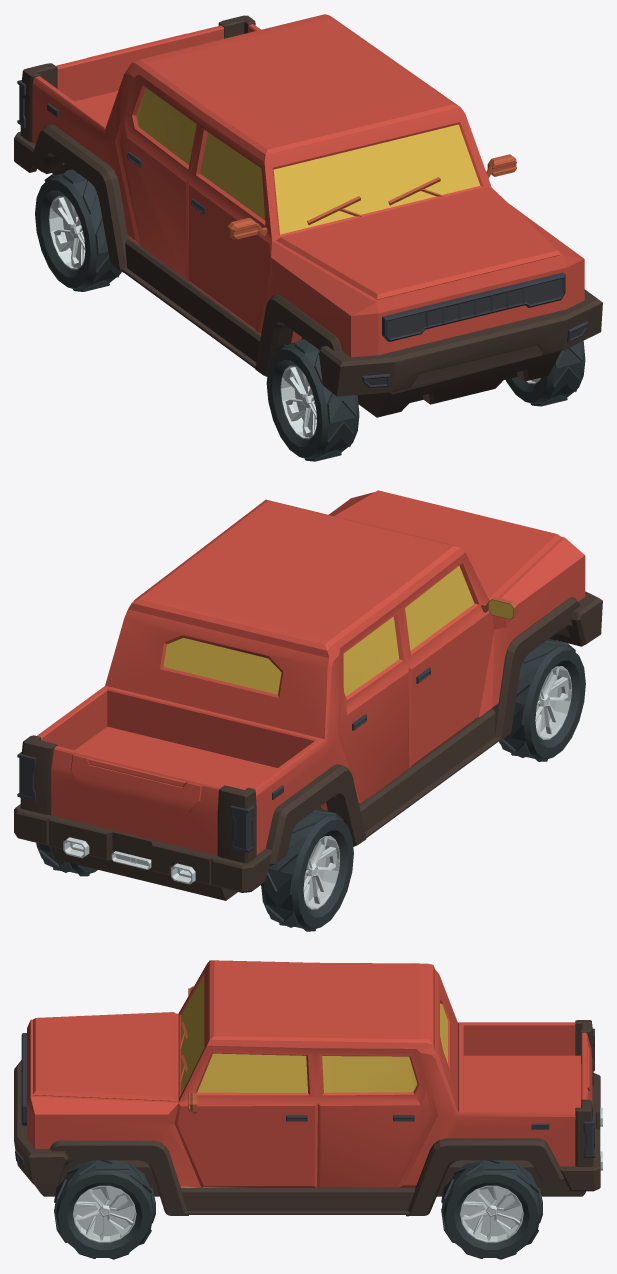
The model's file is car_04.gltf.
The picture shows the model from 3 angles, top to bottom: view 1: azimuth 30°, elevation 25°; view 2: azimuth 150°, elevation 25°; view 3: azimuth 270°, elevation 25°; orthographic projection. The views are drawn at different scales.
Visible parts, largest first — view 1: body, wheel_39, wheel_1, wheel_38, wheel_0, wheel_37, wheel_43; view 2: body, wheel_39, wheel_1, wheel_0, wheel_38, wheel_43, wheel_37; view 3: body, wheel_11, wheel_5, wheel_32, wheel_27, wheel_7, wheel_13, wheel_6, wheel_12.
Boxes of the visible parts, bbox=[...] form: body: bbox=[14, 14, 602, 461]; wheel_39: bbox=[35, 180, 90, 287]; wheel_1: bbox=[266, 349, 322, 457]; wheel_38: bbox=[40, 190, 84, 277]; wheel_0: bbox=[272, 360, 315, 447]; wheel_37: bbox=[43, 176, 97, 289]; wheel_43: bbox=[275, 345, 328, 459]; body: bbox=[14, 490, 602, 931]; wheel_39: bbox=[298, 820, 353, 927]; wheel_1: bbox=[530, 650, 585, 758]; wheel_0: bbox=[536, 660, 580, 747]; wheel_38: bbox=[304, 830, 348, 917]; wheel_43: bbox=[523, 646, 578, 759]; wheel_37: bbox=[291, 816, 346, 929]; body: bbox=[14, 960, 602, 1259]; wheel_11: bbox=[58, 1174, 151, 1257]; wheel_5: bbox=[445, 1174, 538, 1257]; wheel_32: bbox=[77, 1186, 134, 1236]; wheel_27: bbox=[464, 1186, 522, 1236]; wheel_7: bbox=[454, 1182, 529, 1249]; wheel_13: bbox=[67, 1182, 142, 1249]; wheel_6: bbox=[443, 1170, 540, 1257]; wheel_12: bbox=[55, 1170, 153, 1257].
Bounding box in the file's own units: 2.38 × 2 × 5.09.
1 material, 1 textured.
